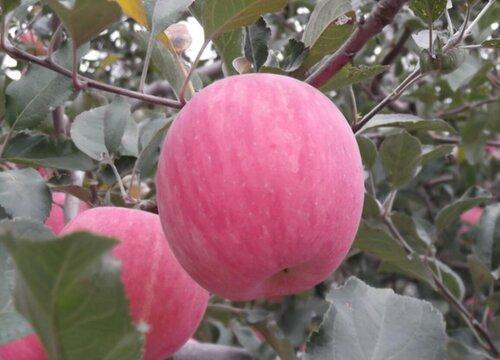apple: (157, 70, 363, 301), (56, 205, 209, 358)
